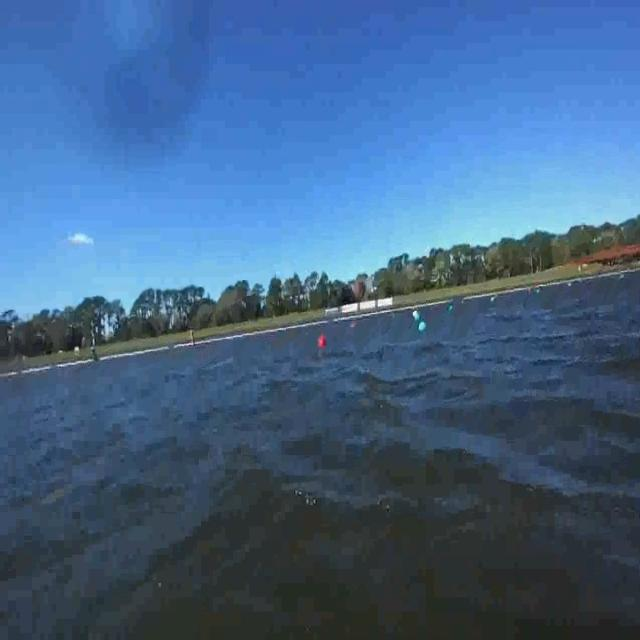green-buoy: (419, 323, 427, 335)
red-buoy: (319, 336, 326, 349)
